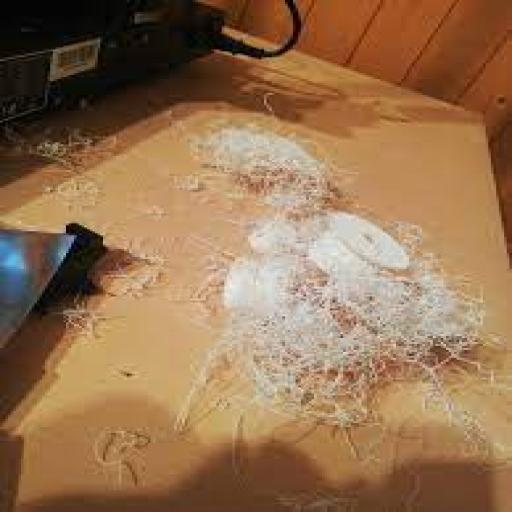spaghetti: (171, 106, 473, 426), (26, 122, 112, 210), (95, 415, 157, 485), (97, 245, 148, 316)
